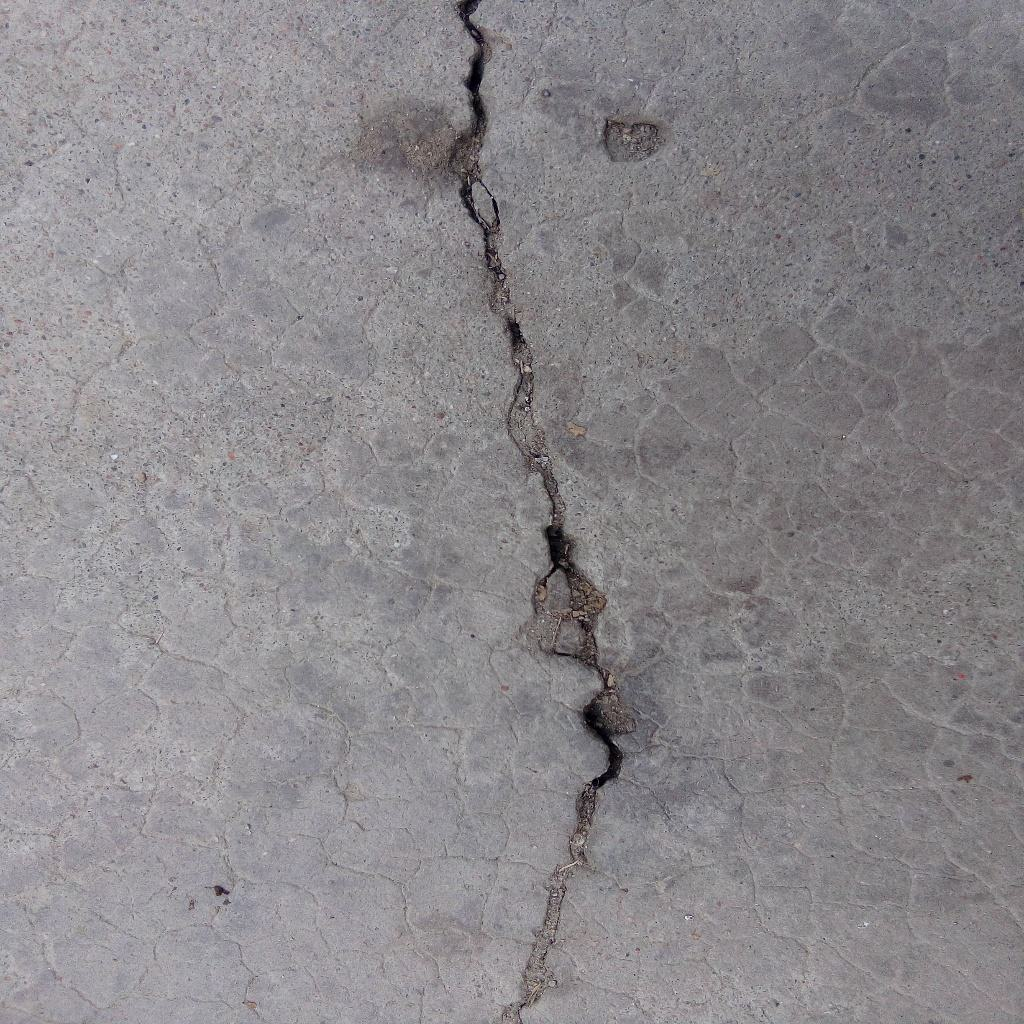Crack: (446, 1, 637, 1024)
Spalling: (600, 116, 661, 165)
